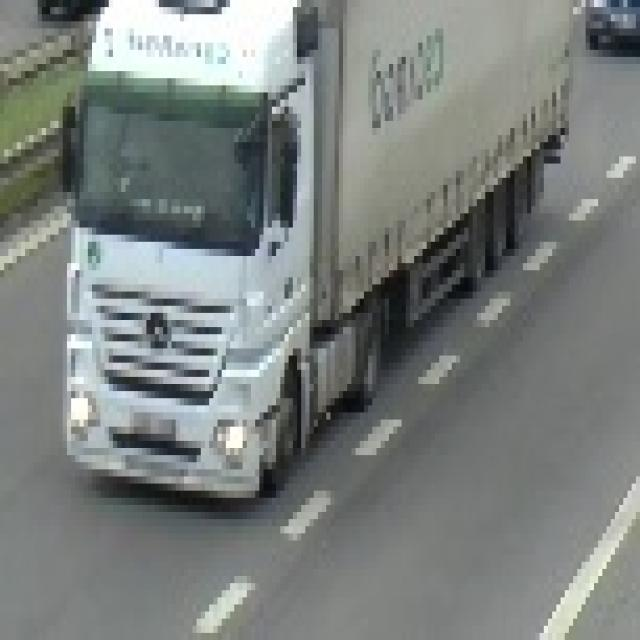TRUCK: (62, 1, 574, 508)
